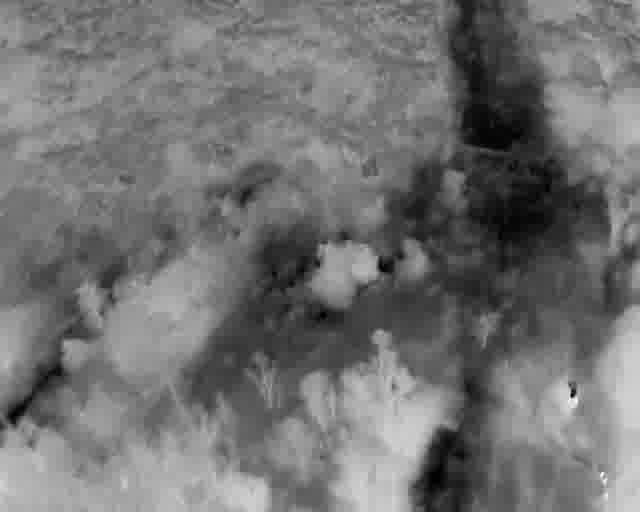car: (171, 451, 182, 467), (172, 432, 183, 445)
person: (177, 464, 181, 471), (173, 473, 177, 478), (174, 467, 177, 473), (171, 466, 173, 472)
